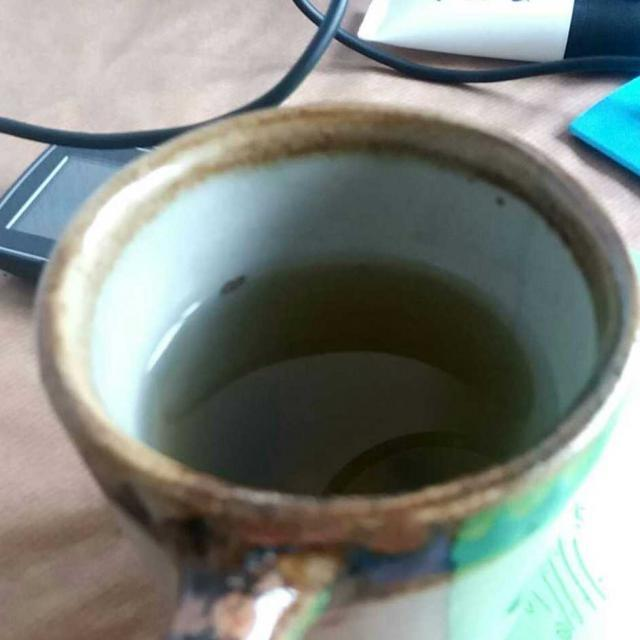drink: (142, 269, 543, 504)
